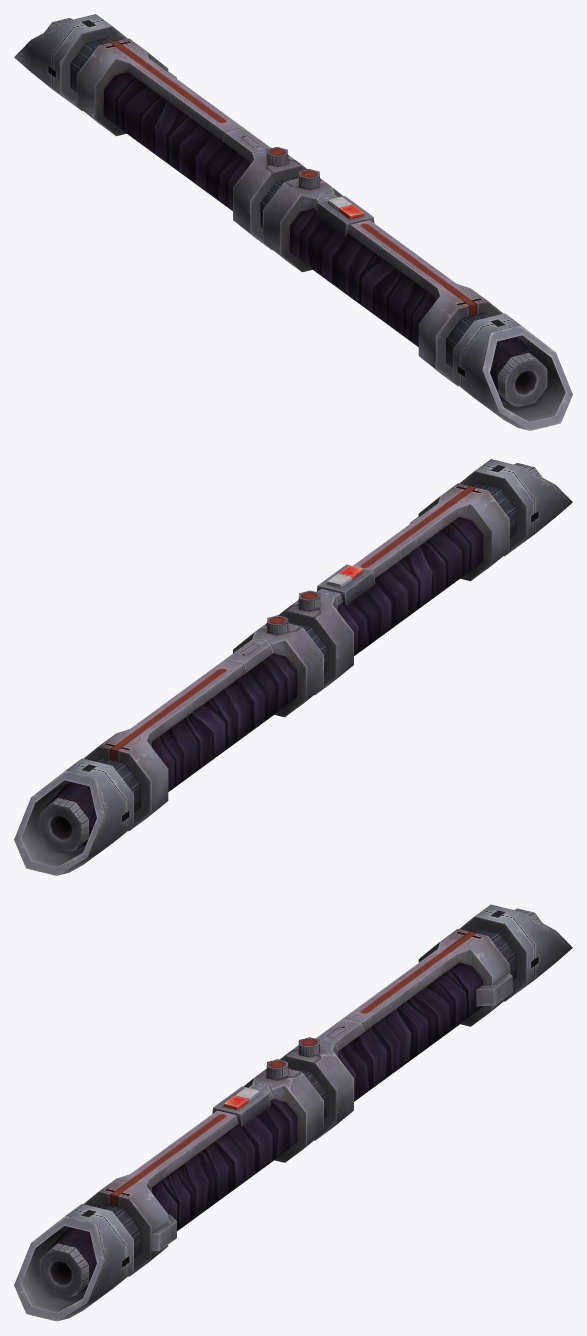
Rendered from staff1.glb.
3 views of the same model, one above another, from view 1: azimuth 30°, elevation 25°; view 2: azimuth 150°, elevation 25°; view 3: azimuth 330°, elevation 25° (orthographic).
Parts seen in each view (by area): view 1: dualsaber_high01_a01_v01; view 2: dualsaber_high01_a01_v01; view 3: dualsaber_high01_a01_v01.
Boxes of the visible parts, <box> form: dualsaber_high01_a01_v01: <box>14,14,572,430</box>; dualsaber_high01_a01_v01: <box>14,459,572,875</box>; dualsaber_high01_a01_v01: <box>14,904,572,1321</box>.
Bounding box in the file's own units: 0.00628 × 0.00671 × 0.0691.
Materials: 1 (1 with a texture image).
